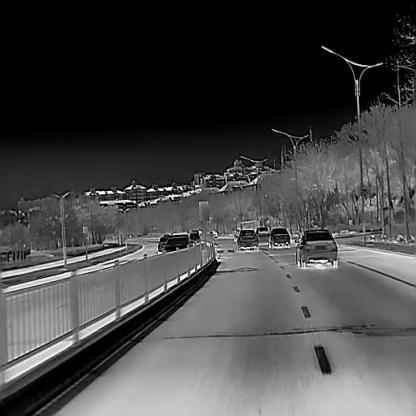car: (294, 229, 338, 267), (236, 228, 259, 251), (266, 227, 290, 248), (163, 233, 189, 250), (255, 227, 270, 244), (189, 232, 200, 247), (157, 236, 167, 250), (209, 230, 217, 239)
